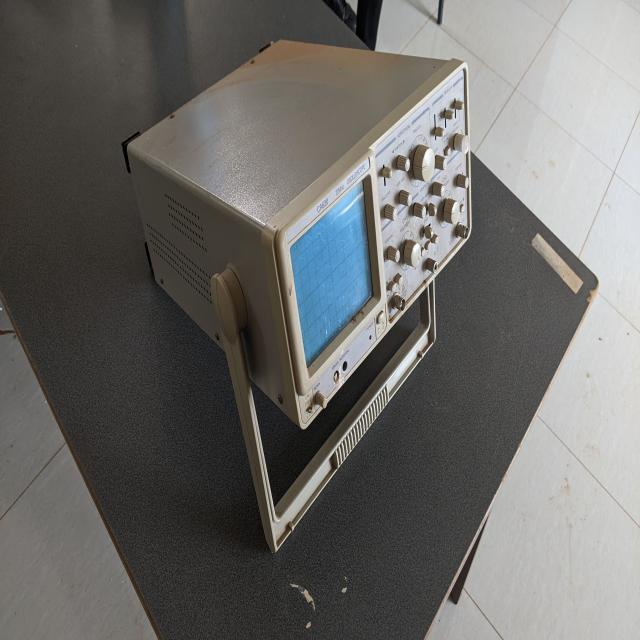Cathode Ray Oscilloscope: (120, 9, 478, 550)
